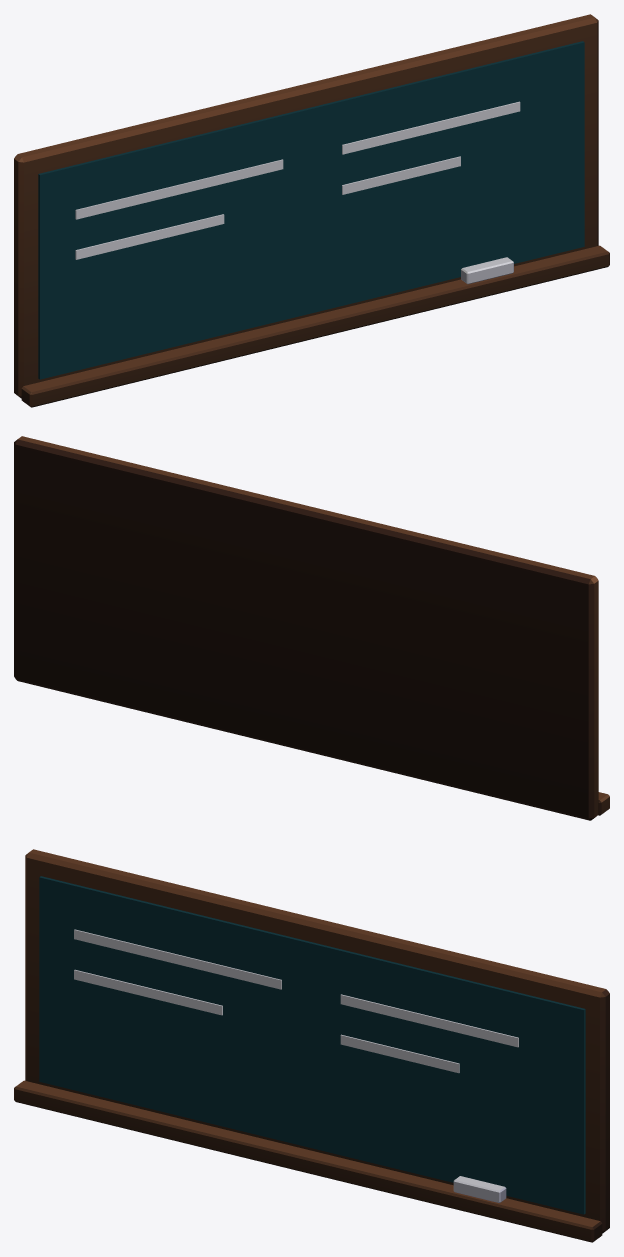
Rendered from blackboard.glb.
3 renders of one model, top to bottom at view 1: azimuth 30°, elevation 25°; view 2: azimuth 150°, elevation 25°; view 3: azimuth 330°, elevation 25°, orthographic.
Visible parts, largest first — view 1: blackboard; view 2: blackboard; view 3: blackboard.
Boxes of the visible parts, x1=… form: blackboard: x1=14, y1=14, x2=609, y2=407; blackboard: x1=14, y1=436, x2=609, y2=820; blackboard: x1=14, y1=849, x2=609, y2=1242.
Bounding box in the file's own units: 1.96 × 0.78 × 0.11.
